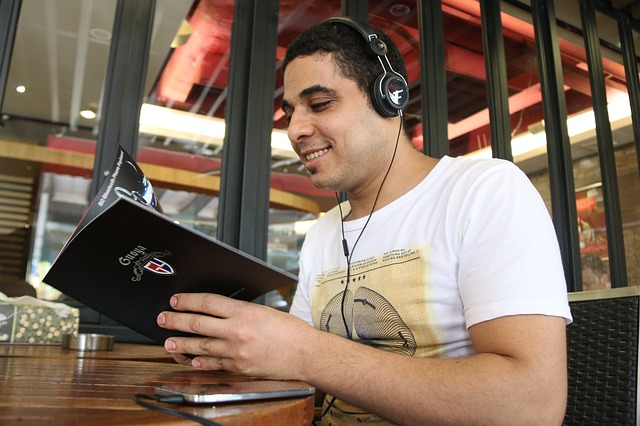headphones: (325, 17, 409, 118)
